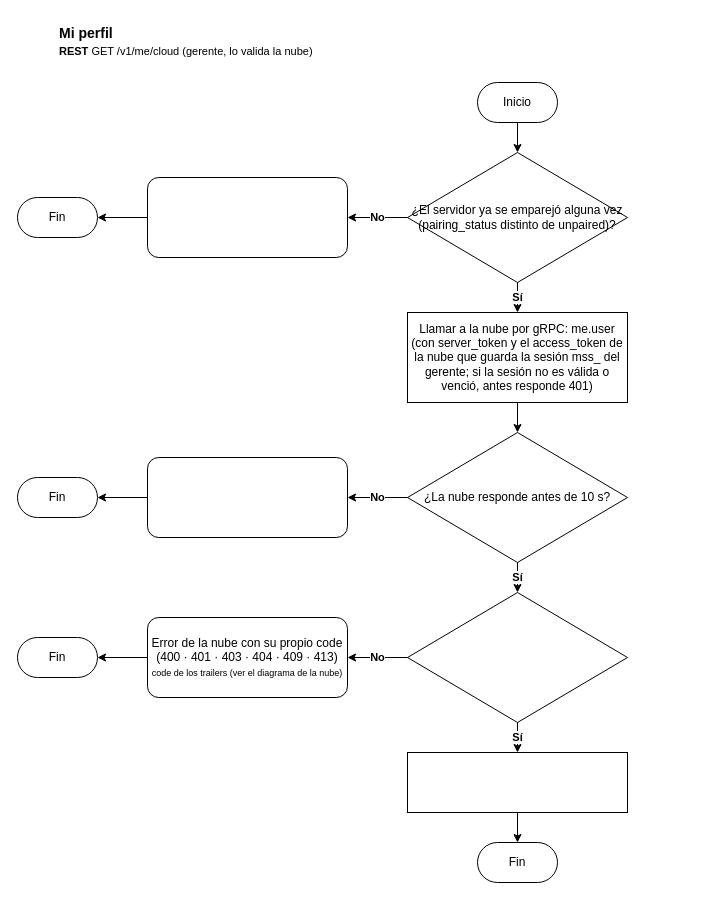
Some shapes in this 715 by 900 pixel diagram are drawn without their labels. The shapes that lost their labels are listed below. From the top down, each one's centre as x and y in pixels, then its label:
the point at 247,217: Servidor sin emparejar (409) ERROR_SERVER_NOT_PAIRED
the point at 247,497: La nube no responde (503) ERROR_CLOUD_UNAVAILABLE · ERROR_SERVER_UNLINKED
the point at 517,657: ¿La nube acepta la petición?
the point at 517,782: Responder 200 con el mensaje USER_RETRIEVED
